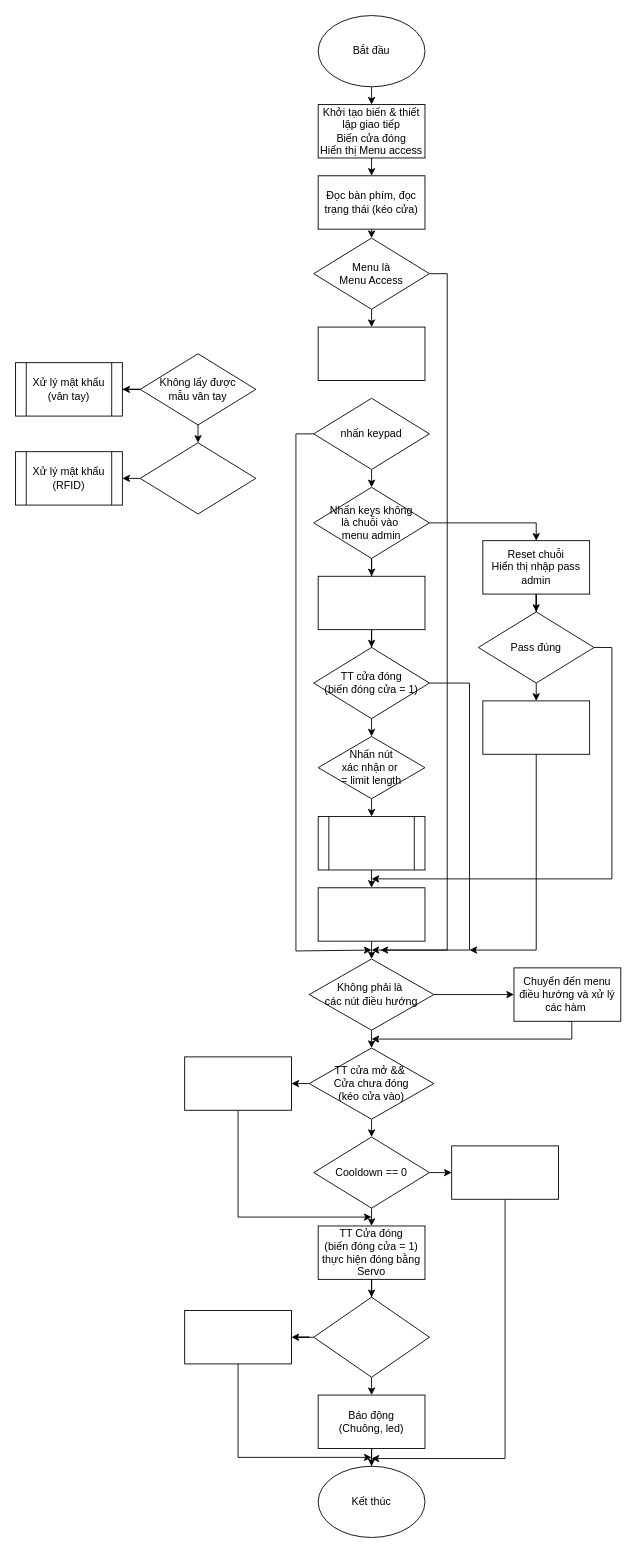
Image size: 636x1553. Some labels were removed from this diagram. Here are the shapes that lost their labels. From the top down, the centre of each, then its label:
At point 371,353: "Hiển thị thời gian hệ thống, trạng thái cửa, thời gian cooldown đóng".
At point 197,478: "Thẻ RFID không được quét".
At point 371,602: "Hiển thị chuỗi mật khẩu trên LCD (keypad 0-9)".
At point 536,727: "Hiển thị menu Admin".
At point 371,843: "Xử lý mật khẩu (keypad)".
At point 371,914: "Quay lại Menu Access, Xóa chuỗi keypad".
At point 237,1083: "Cooldown = 0".
At point 504,1172: "Cooldown thời gian đóng cửa (cooldown - 1)".
At point 237,1337: "Tắt báo động (chuông, led)".
At point 371,1336: "TT cửa đóng && chưa đóng được cửa (vật cản)".
